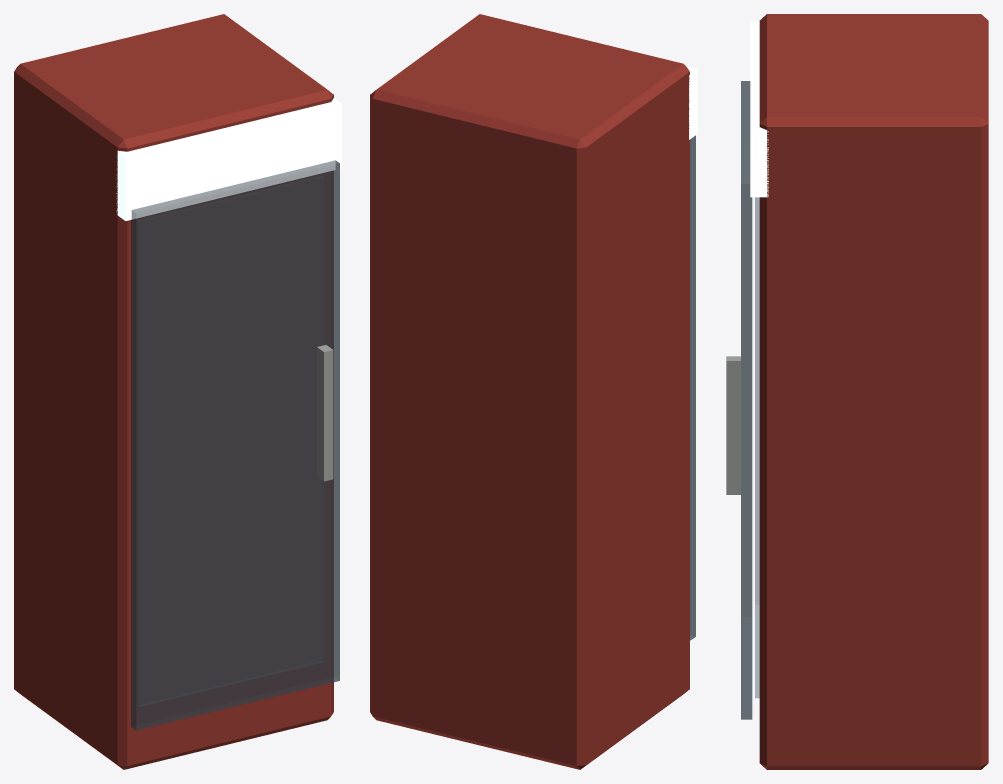
Rendered from drink_fridge.glb.
The picture shows the model from 3 angles, left to right: view 1: azimuth 30°, elevation 25°; view 2: azimuth 150°, elevation 25°; view 3: azimuth 270°, elevation 25°; orthographic projection. The views are drawn at different scales.
Parts seen in each view (by area): view 1: DrinkFridge, anim_door_R; view 2: DrinkFridge, anim_door_R; view 3: DrinkFridge, anim_door_R.
Part boxes in pixels (box(x1,y1,x2,y2)): DrinkFridge: box(14, 14, 341, 769); anim_door_R: box(131, 160, 339, 730); DrinkFridge: box(370, 14, 697, 769); anim_door_R: box(690, 135, 695, 640); DrinkFridge: box(750, 14, 988, 769); anim_door_R: box(726, 81, 752, 719).
Size of the model in its own units: 0.7 by 1.95 by 0.71.
